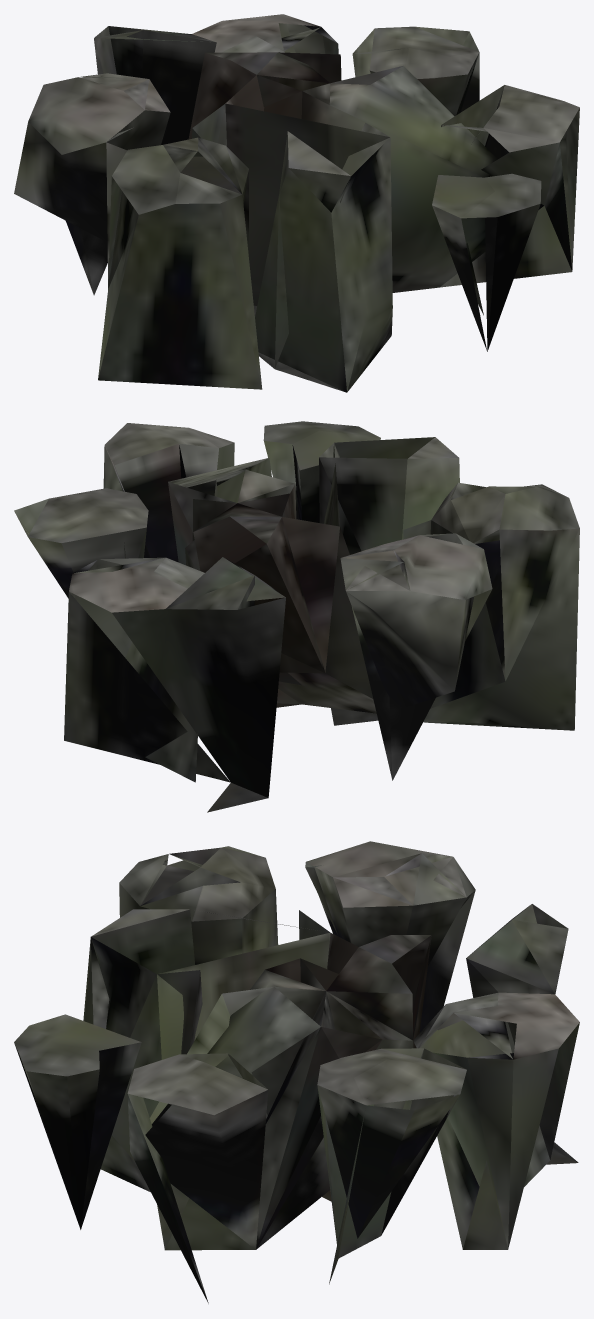
The model's file is barrels_1454587752_lod1.glb.
3 renders of one model, top to bottom at view 1: azimuth 30°, elevation 25°; view 2: azimuth 150°, elevation 25°; view 3: azimuth 270°, elevation 25°, orthographic. The views are drawn at different scales.
Bounding box in the file's own units: 1.62 × 0.7434 × 1.55.
1 material, 1 textured.
